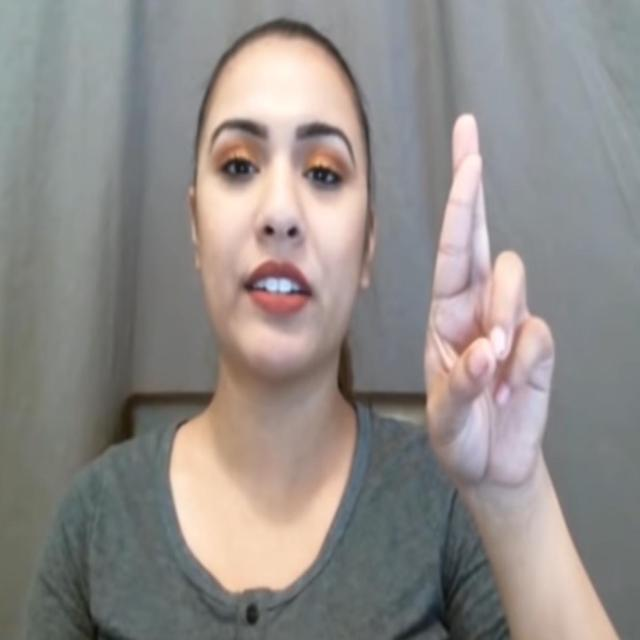R: (421, 106, 562, 487)
